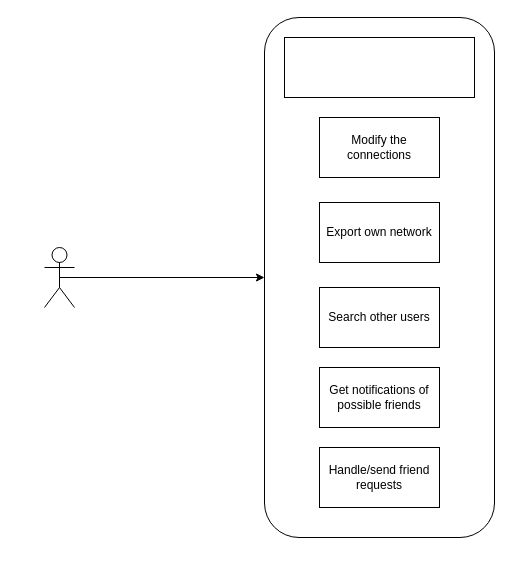
Image size: 512x563. Some labels were removed from this diagram. The box of each missing label's shape, as (x1, y1, x2, y2) in pixels:
Access another user's page and connections: (284, 36, 474, 98)
Connected user: (44, 246, 74, 308)
